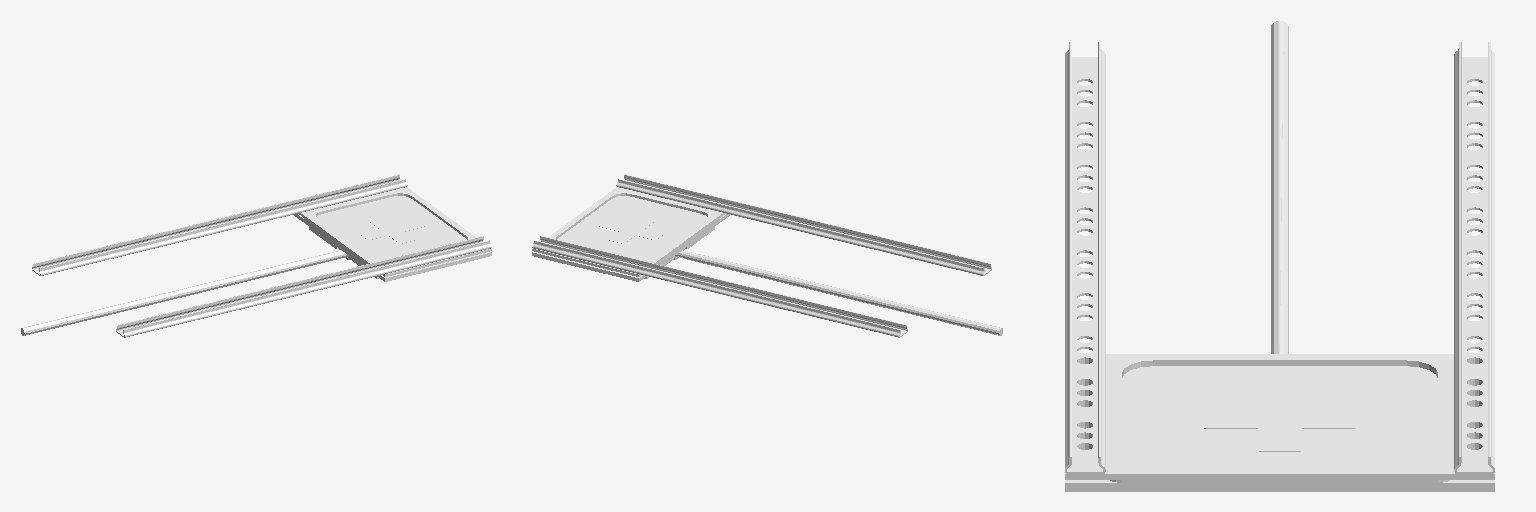
The robot description file, URDF, robot "engineer_chassis":
<?xml version="1.0" encoding="utf-8"?>
<!-- This URDF was automatically created by SolidWorks to URDF Exporter! Originally created by [author] ([email redacted]) 
     Commit Version: 1.5.1-0-g916b5db  Build Version: 1.5.7152.31018
     For more information, please see http://wiki.ros.org/sw_urdf_exporter -->
<robot
  name="engineer_chassis">
  <link
    name="base_link">
    <inertial>
      <origin
        xyz="-0.0113738412352606 -0.0179737884364999 0.0629667320671845"
        rpy="0 0 0" />
      <mass
        value="12.478309558197" />
      <inertia
        ixx="0.0306729834251133"
        ixy="2.06989089203648E-05"
        ixz="-4.24062281514238E-06"
        iyy="0.0340671825531538"
        iyz="-3.89196837584769E-05"
        izz="0.0558921594392679" />
    </inertial>
    <visual>
      <origin
        xyz="0 0 0"
        rpy="0 0 0" />
      <geometry>
        <mesh
          filename="package://engineer_chassis/meshes/base_link.STL" />
      </geometry>
      <material
        name="">
        <color
          rgba="0.898039215686275 0.917647058823529 0.929411764705882 1" />
      </material>
    </visual>
    <collision>
      <origin
        xyz="0 0 0"
        rpy="0 0 0" />
      <geometry>
        <mesh
          filename="package://engineer_chassis/meshes/base_link.STL" />
      </geometry>
    </collision>
  </link>
  <link
    name="swiping_card">
    <inertial>
      <origin
        xyz="-0.043679 3.1364E-15 0.0024775"
        rpy="0 0 0" />
      <mass
        value="0.12034" />
      <inertia
        ixx="0.00013212"
        ixy="6.8395E-19"
        ixz="-2.4208E-20"
        iyy="0.00035298"
        iyz="-4.3226E-11"
        izz="0.00048461" />
    </inertial>
    <visual>
      <origin
        xyz="0 0 0"
        rpy="0 0 0" />
      <geometry>
        <mesh
          filename="package://engineer_chassis/meshes/swiping_card.STL" />
      </geometry>
      <material
        name="">
        <color
          rgba="1 1 1 1" />
      </material>
    </visual>
    <collision>
      <origin
        xyz="0 0 0"
        rpy="0 0 0" />
      <geometry>
        <mesh
          filename="package://engineer_chassis/meshes/swiping_card.STL" />
      </geometry>
    </collision>
  </link>
  <joint
    name="swiping_card_joint"
    type="prismatic">
    <origin
      xyz="0.235 0 -0.0155"
      rpy="0 0 0" />
    <parent
      link="base_link" />
    <child
      link="swiping_card" />
    <axis
      xyz="-1 0 0" />
    <limit
      lower="0"
      upper="0.2"
      effort="80"
      velocity="2" />
  </joint>
</robot>

--- What the picture shows (computed from the rendered views, not written in the file) ---
Views: 3 orthographic renders of the robot side by side, from view 1: azimuth 30°, elevation 25°; view 2: azimuth 150°, elevation 25°; view 3: azimuth 270°, elevation 25°.
Model engineer_chassis with 2 links and 1 joints (1 prismatic), rooted at base_link, posed all joints at 0.
Links seen in each view (by area): view 1: swiping_card; view 2: swiping_card; view 3: swiping_card.
Boxes of the visible links, box(x1,y1,x2,y2) form: swiping_card: box(21, 174, 491, 337); swiping_card: box(532, 174, 1002, 337); swiping_card: box(1065, 21, 1494, 491).
Size in the robot's own frame: 0.3572 by 0.136 by 0.023 metres.
1 mesh visuals loaded from 2 distinct referenced files (1 binary STL); not drawn: 1 (reference not matched to a file when rendering).